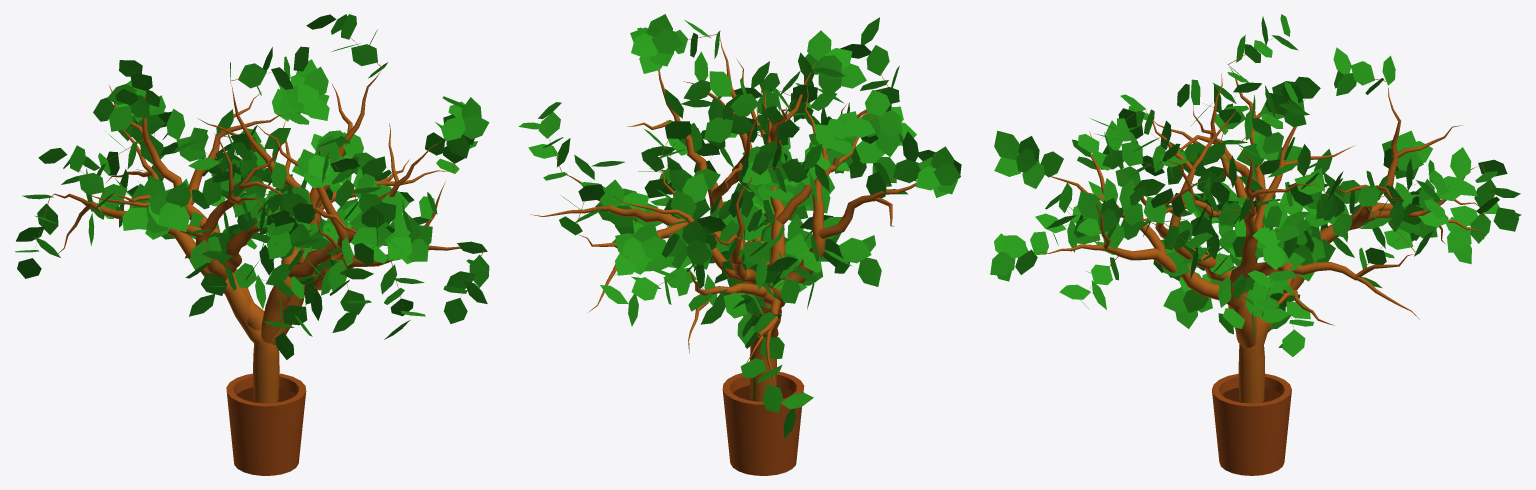
The model's file is tree.fbx.
3 views of the same model, side by side, from view 1: azimuth 30°, elevation 25°; view 2: azimuth 150°, elevation 25°; view 3: azimuth 270°, elevation 25° (orthographic). The views are drawn at different scales.
Visible parts, largest first — view 1: Plane, Cylinder; view 2: Plane, Cylinder; view 3: Plane, Cylinder.
Boxes of the visible parts, x1,y1,x2,y2 form: Plane: (15, 14, 489, 403); Cylinder: (226, 373, 306, 475); Plane: (518, 14, 961, 438); Cylinder: (722, 371, 804, 475); Plane: (990, 14, 1521, 403); Cylinder: (1212, 373, 1291, 475).
Bounding box in the file's own units: 717 × 668 × 765.
